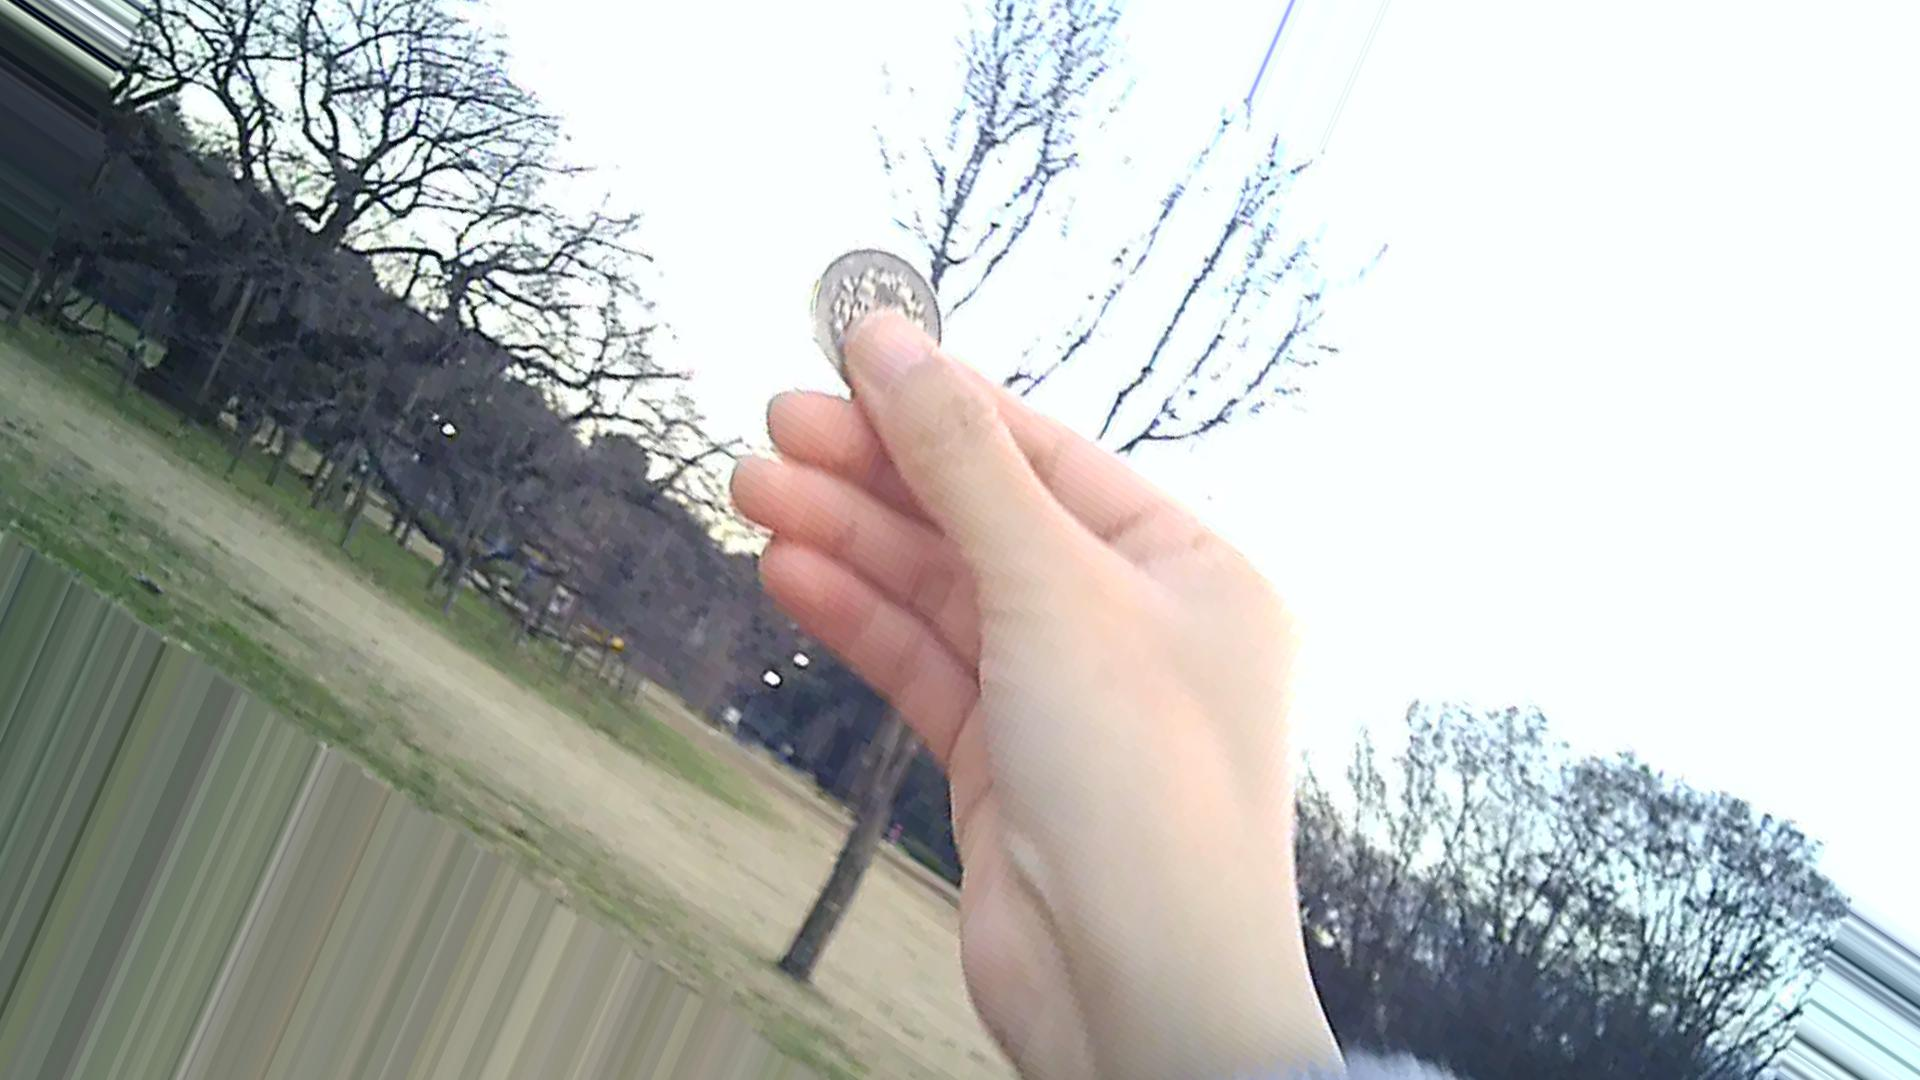100 Yen: (806, 248, 955, 410)
